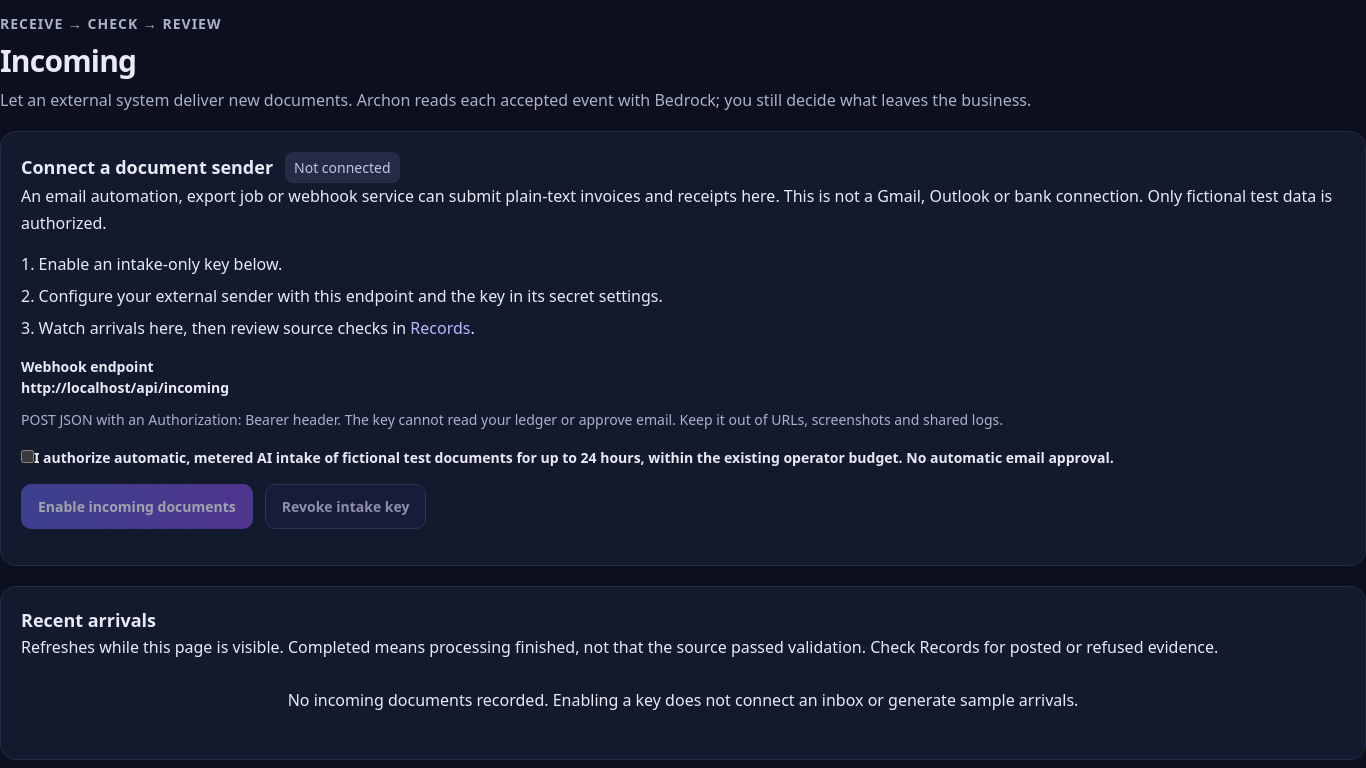
Test: a delayed earlier read cannot overwrite a newer connection action
Expected: the text "Not connected" is shown, [285, 152, 400, 184]
Click the checkbox labelled "I authorize automatic". click: (28, 457)
box: [21, 450, 34, 463]
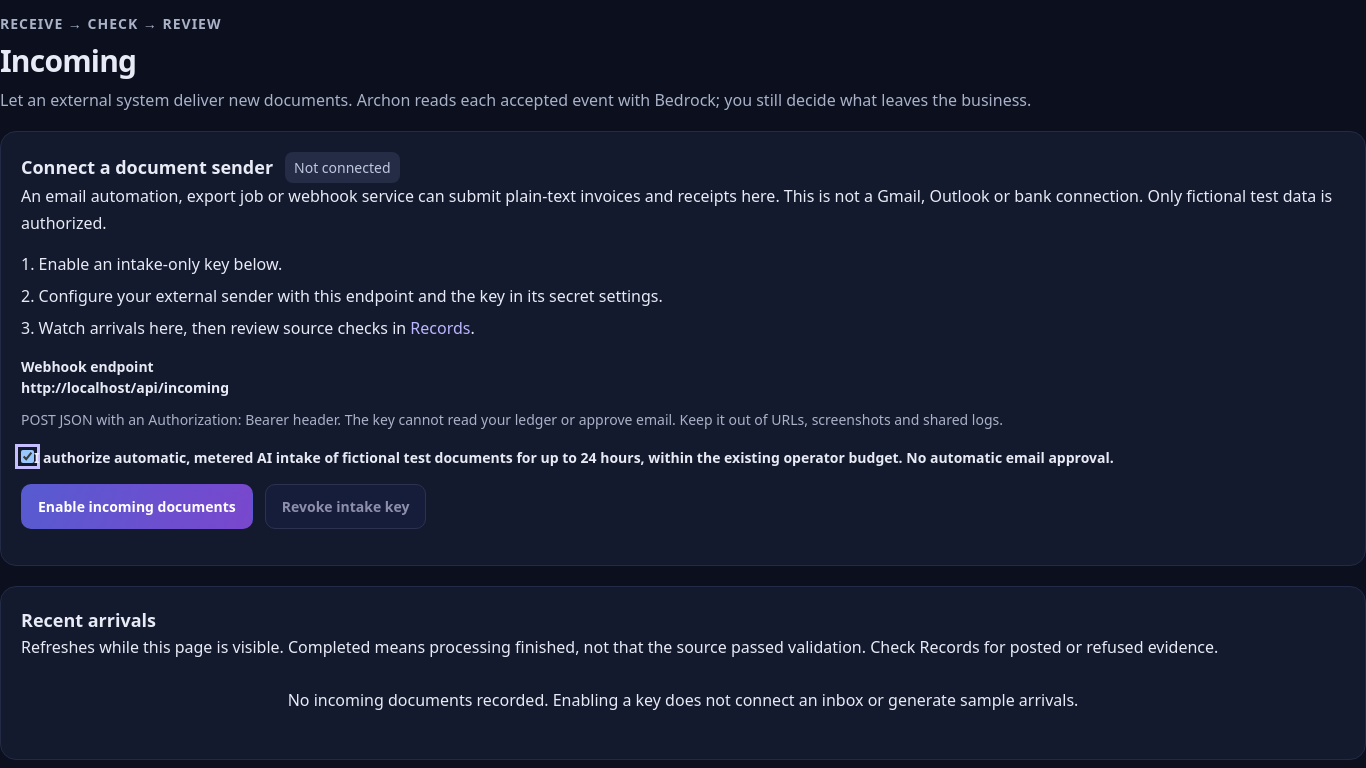
Click the button "Enable incoming documents". click: (137, 507)
box: [21, 484, 253, 529]
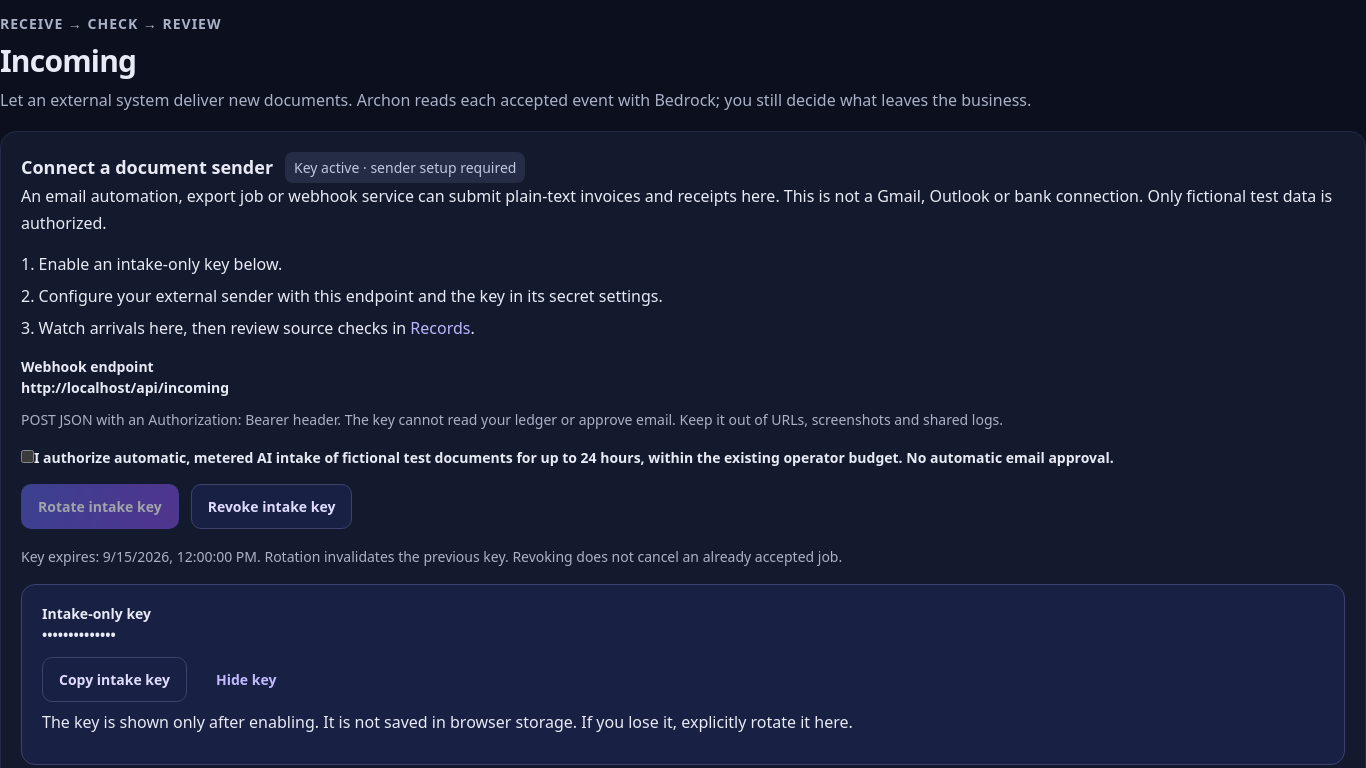
Expected: the text "Key active · sender setup required" is shown, [285, 152, 526, 184]
Expected: the password field labelled "Intake-only key" holds "current-ci-key", [42, 624, 1324, 646]
